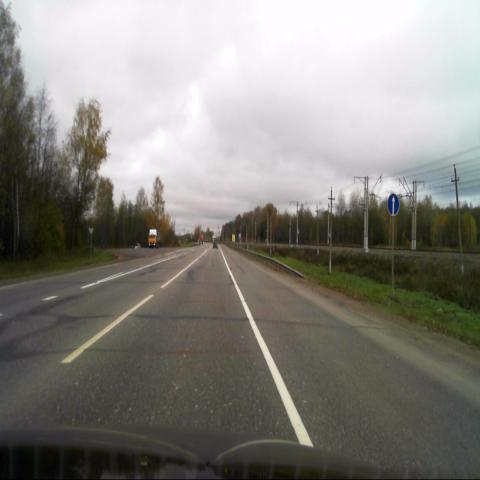4_1_1: (386, 192, 400, 216)
